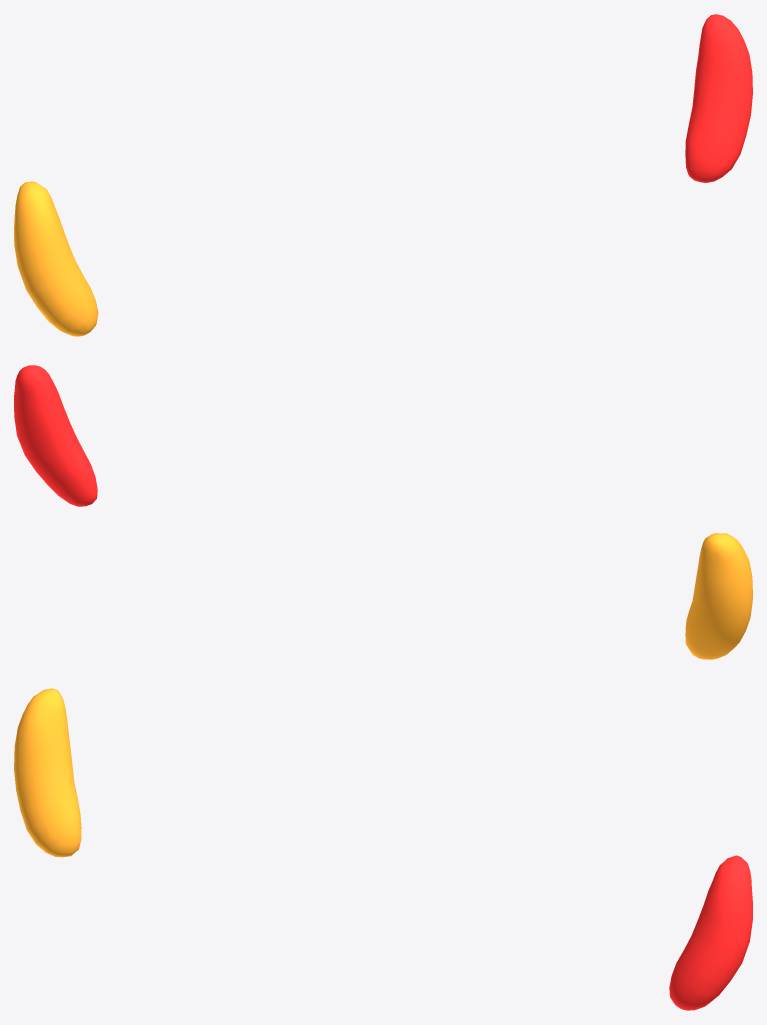
The model's file is ovar-female.glb.
3 views of the same model, one above another, from view 1: azimuth 30°, elevation 25°; view 2: azimuth 150°, elevation 25°; view 3: azimuth 330°, elevation 25° (orthographic).
Parts seen in each view (by area): view 1: 0:0:VH_F_left_ovary, 0:1:VH_F_right_ovary; view 2: 0:0:VH_F_left_ovary, 0:1:VH_F_right_ovary; view 3: 0:1:VH_F_right_ovary, 0:0:VH_F_left_ovary.
Part boxes in pixels (x1,y1,x2,y2): 0:0:VH_F_left_ovary: (685,14,752,182); 0:1:VH_F_right_ovary: (14,181,98,336); 0:0:VH_F_left_ovary: (14,365,97,506); 0:1:VH_F_right_ovary: (685,533,752,659); 0:1:VH_F_right_ovary: (14,688,81,857); 0:0:VH_F_left_ovary: (669,855,752,1010).
Size of the model in its own units: 0.1272 by 0.024 by 0.0106.
